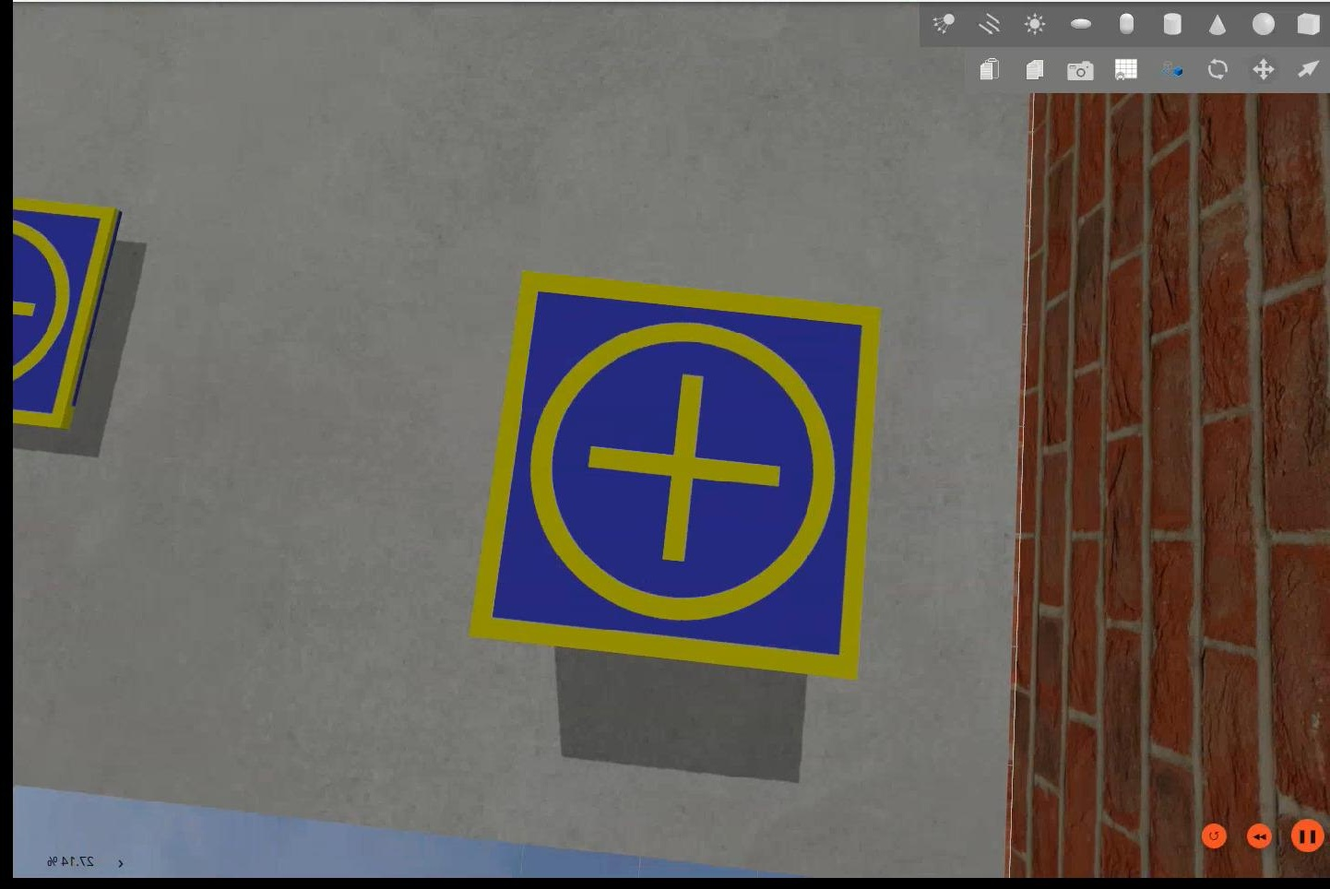small_base: (464, 275, 877, 686), (6, 197, 121, 433)
